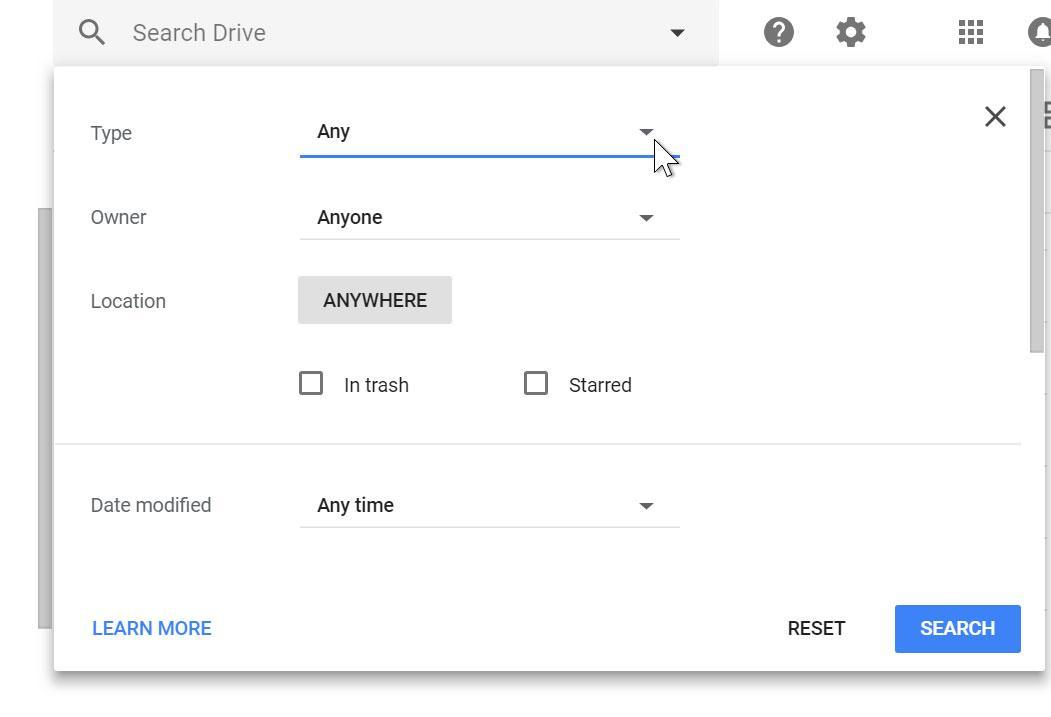button: (299, 278, 453, 326), (895, 605, 1023, 656)
checkbox: (524, 371, 550, 397), (299, 372, 325, 397)
icon: (950, 15, 993, 54), (833, 14, 870, 51), (762, 16, 796, 49), (983, 99, 1011, 134), (1025, 16, 1051, 52)
input: (58, 1, 648, 63)
label: (87, 490, 227, 529), (91, 619, 214, 641), (570, 371, 644, 400), (343, 373, 416, 401), (90, 290, 168, 314), (88, 206, 151, 232), (788, 618, 849, 641), (91, 124, 137, 151)
